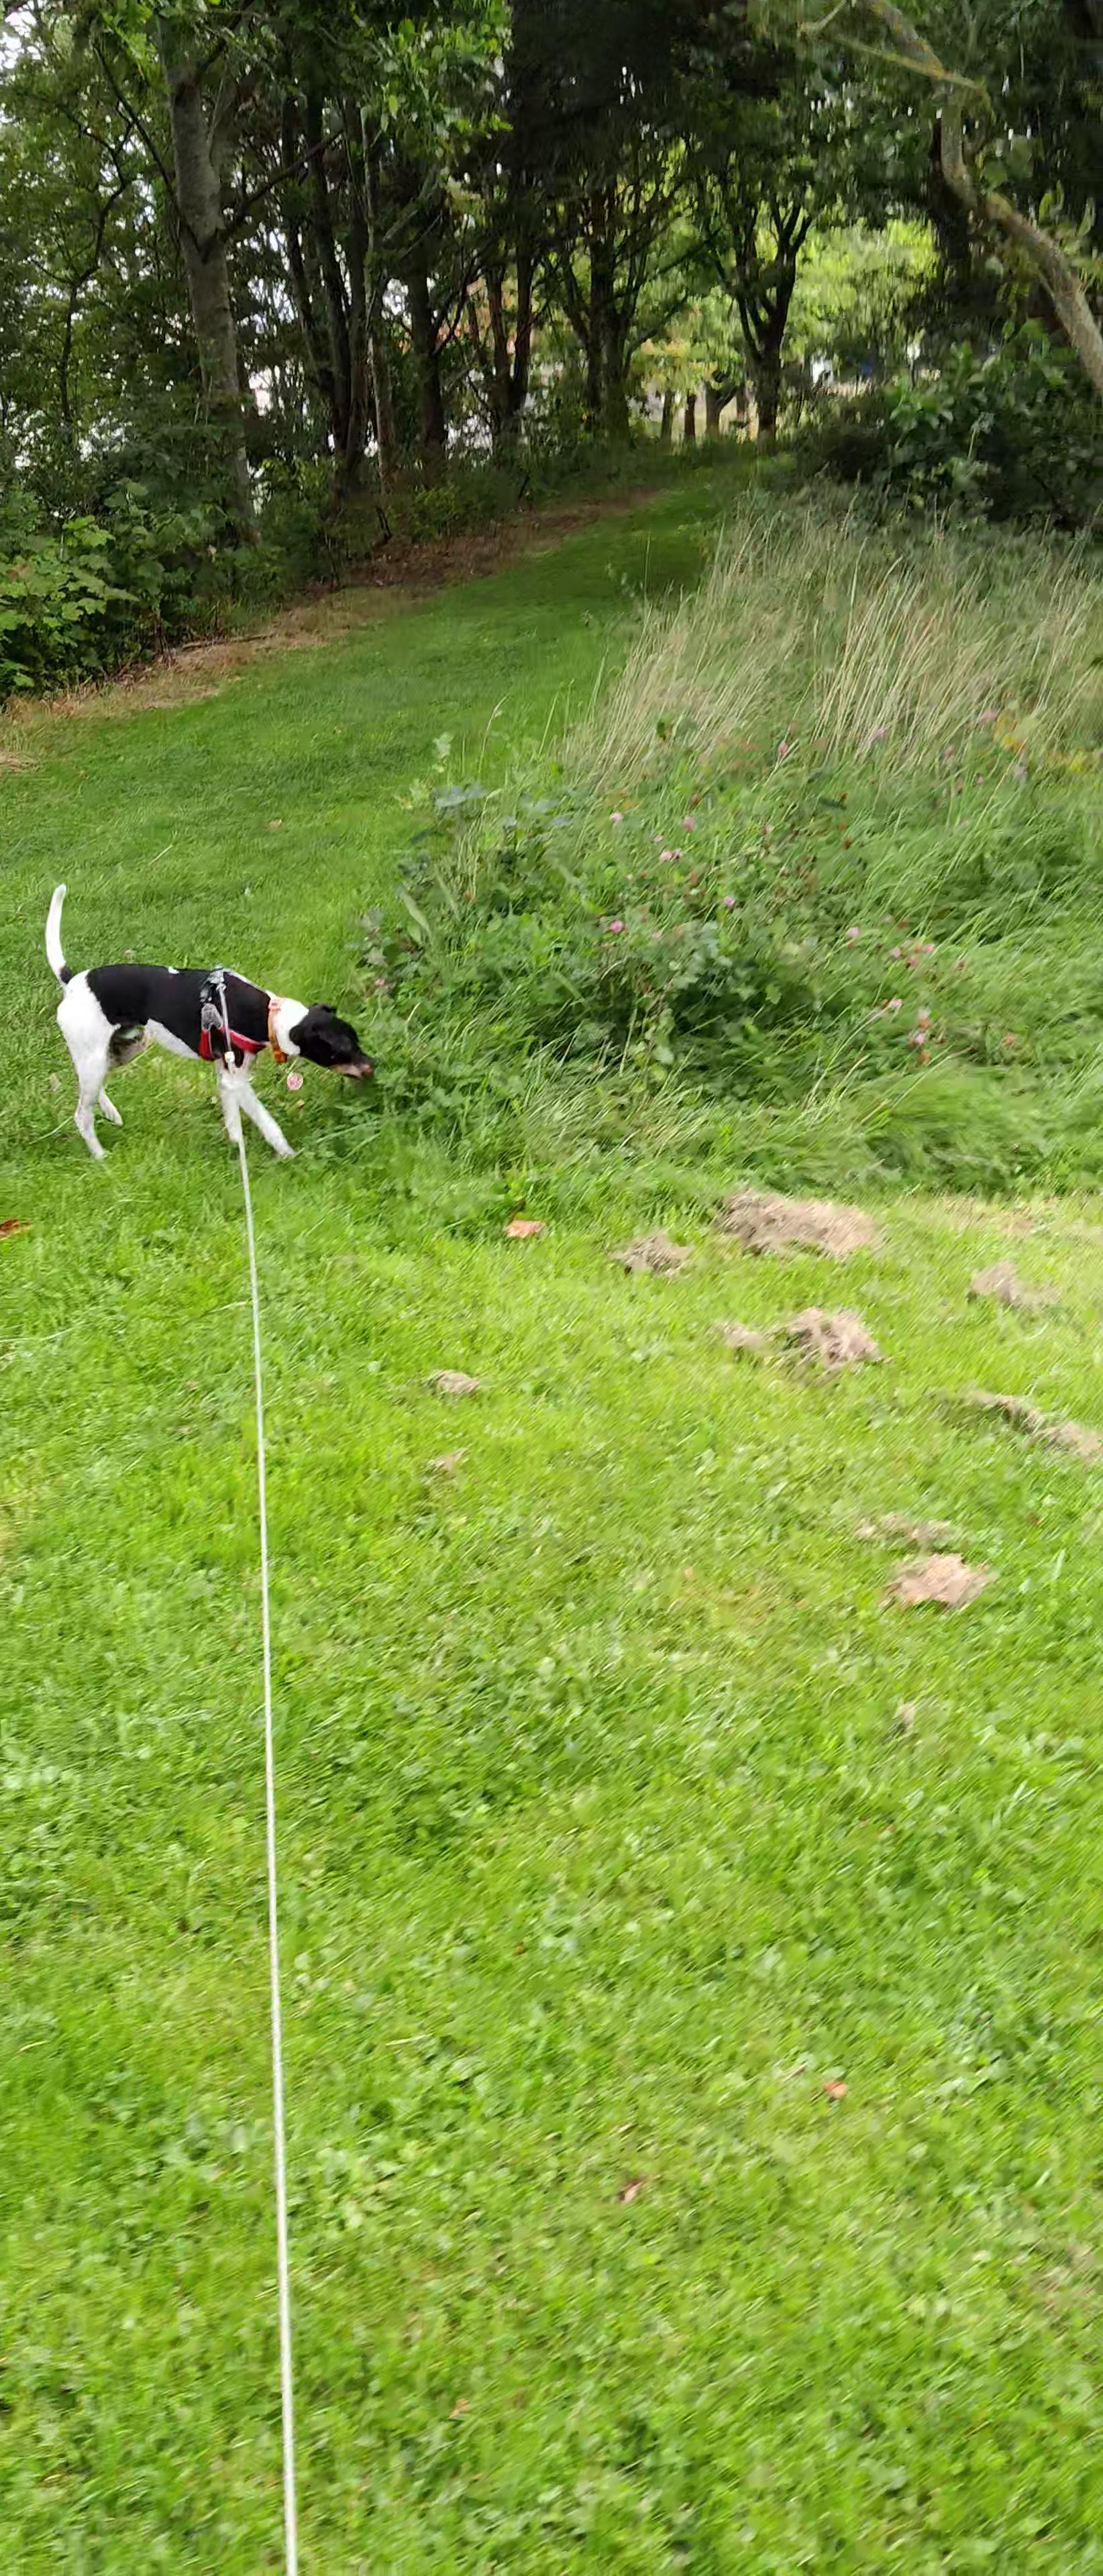Dog: (26, 874, 386, 1171)
